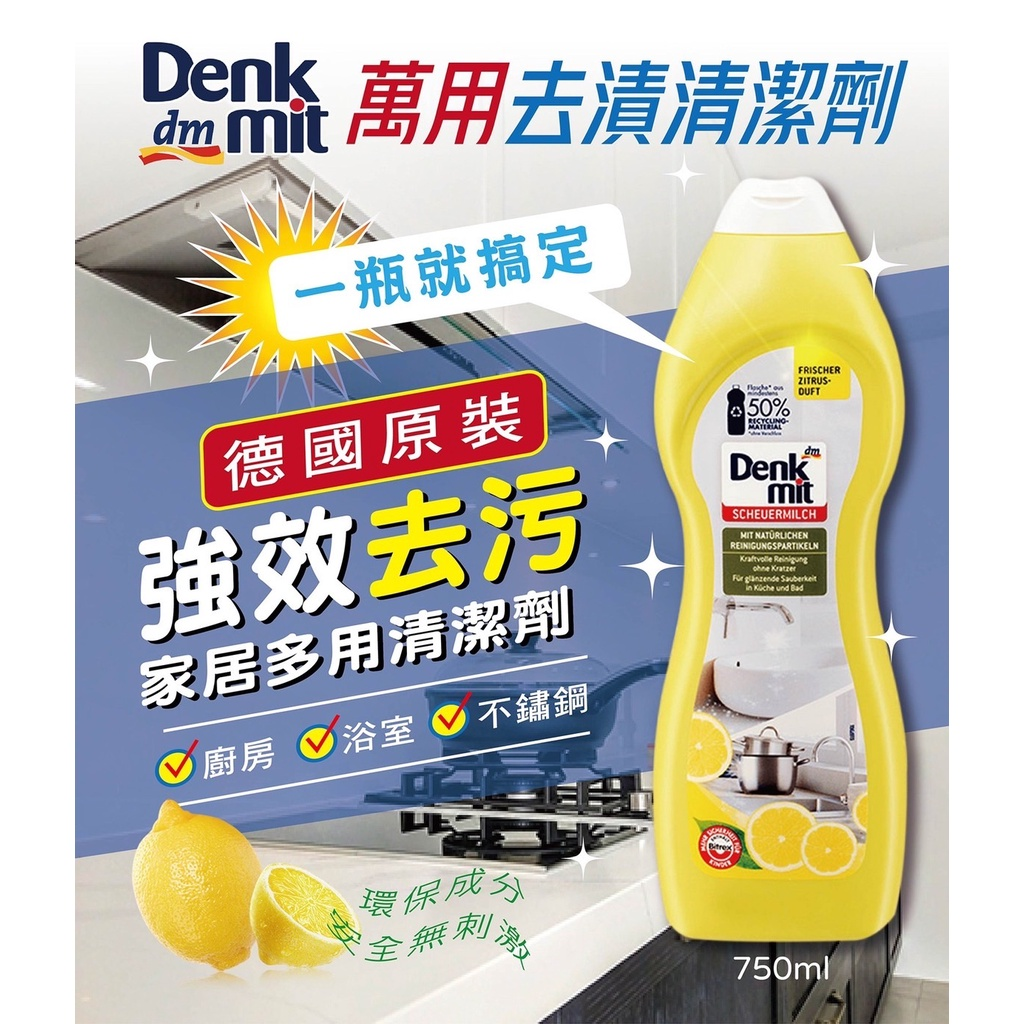cleaner: (617, 166, 924, 944)
